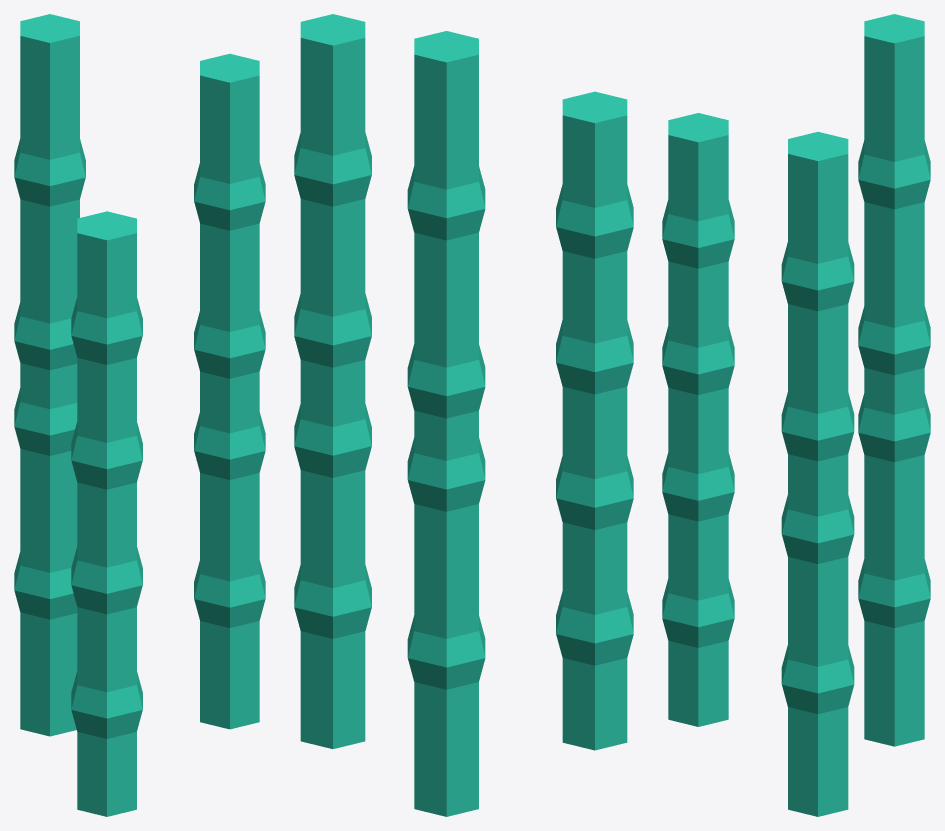
The model's file is crops-bamboo-stage-b.glb.
3 renders of one model, left to right at view 1: azimuth 30°, elevation 25°; view 2: azimuth 150°, elevation 25°; view 3: azimuth 270°, elevation 25°, orthographic. The views are drawn at different scales.
Parts seen in each view (by area): view 1: crops_bambooStageB; view 2: crops_bambooStageB; view 3: crops_bambooStageB.
Boxes of the visible parts, x1=… form: crops_bambooStageB: x1=14, y1=14, x2=265, y2=816; crops_bambooStageB: x1=294, y1=14, x2=633, y2=816; crops_bambooStageB: x1=662, y1=14, x2=930, y2=816.
Size of the model in its own units: 0.3401 by 0.89 by 0.308.
